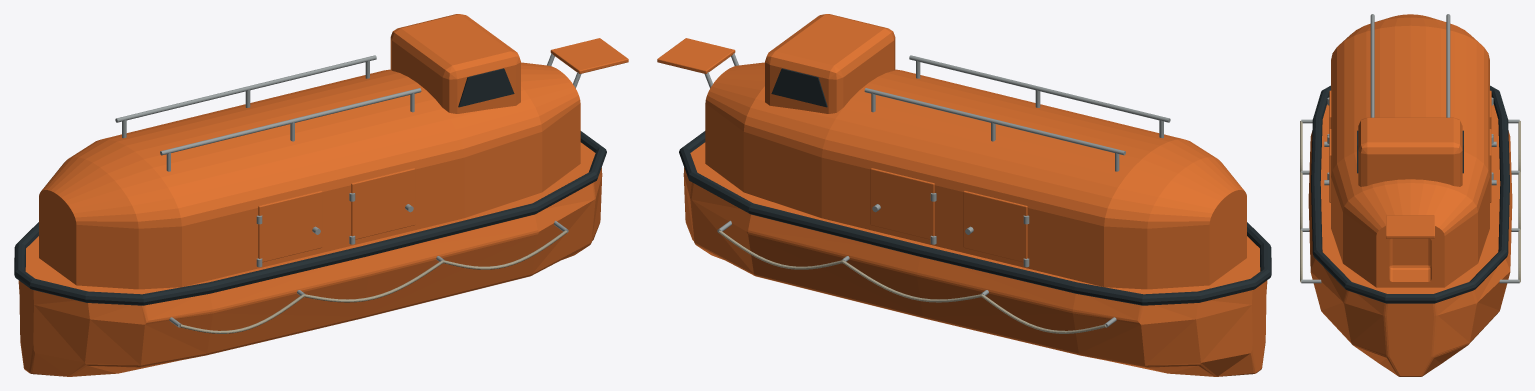
File: full.fbx
The picture shows the model from 3 angles, left to right: view 1: azimuth 30°, elevation 25°; view 2: azimuth 150°, elevation 25°; view 3: azimuth 270°, elevation 25°; orthographic projection. The views are drawn at different scales.
Parts seen in each view (by area): view 1: Long enclosed hard cabin, Generic closed rigid hull, Raised pilothouse, Continuous dark rubrail, Side door -1 -0.85, Side door -1 0.35, Open end hatch cover, Continuous side grab rope -1, Dark trapezoid window -1, Narrow upper rail 1, Narrow upper rail -1; view 2: Long enclosed hard cabin, Generic closed rigid hull, Raised pilothouse, Continuous dark rubrail, Side door 1 -0.85, Side door 1 0.35, Open end hatch cover, Continuous side grab rope 1, Dark trapezoid window 1, Narrow upper rail -1, Narrow upper rail 1; view 3: Long enclosed hard cabin, Generic closed rigid hull, Raised pilothouse, Continuous dark rubrail, Open end hatch cover, Narrow upper rail -1, Narrow upper rail 1, Continuous side grab rope -1, Continuous side grab rope 1.
Part boxes in pixels (left/top/right/bottom): Long enclosed hard cabin: left=39, top=62, right=580, bottom=289; Generic closed rigid hull: left=18, top=142, right=602, bottom=376; Raised pilothouse: left=390, top=14, right=520, bottom=113; Continuous dark rubrail: left=14, top=131, right=606, bottom=305; Side door -1 -0.85: left=258, top=191, right=322, bottom=262; Side door -1 0.35: left=351, top=168, right=415, bottom=239; Open end hatch cover: left=550, top=38, right=628, bottom=73; Continuous side grab rope -1: left=179, top=230, right=567, bottom=333; Dark trapezoid window -1: left=458, top=68, right=514, bottom=107; Narrow upper rail 1: left=115, top=55, right=376, bottom=122; Narrow upper rail -1: left=160, top=88, right=421, bottom=155; Long enclosed hard cabin: left=705, top=62, right=1246, bottom=289; Generic closed rigid hull: left=683, top=142, right=1267, bottom=376; Raised pilothouse: left=765, top=14, right=895, bottom=113; Continuous dark rubrail: left=679, top=131, right=1271, bottom=305; Side door 1 -0.85: left=963, top=191, right=1027, bottom=262; Side door 1 0.35: left=870, top=168, right=934, bottom=239; Open end hatch cover: left=657, top=38, right=735, bottom=73; Continuous side grab rope 1: left=718, top=230, right=1106, bottom=333; Dark trapezoid window 1: left=771, top=68, right=827, bottom=107; Narrow upper rail -1: left=909, top=55, right=1170, bottom=122; Narrow upper rail 1: left=864, top=88, right=1125, bottom=155; Long enclosed hard cabin: left=1331, top=14, right=1489, bottom=287; Generic closed rigid hull: left=1308, top=104, right=1512, bottom=376; Raised pilothouse: left=1358, top=117, right=1462, bottom=186; Continuous dark rubrail: left=1311, top=85, right=1509, bottom=303; Open end hatch cover: left=1386, top=215, right=1434, bottom=238; Narrow upper rail -1: left=1370, top=14, right=1374, bottom=117; Narrow upper rail 1: left=1446, top=14, right=1450, bottom=117; Continuous side grab rope -1: left=1300, top=121, right=1302, bottom=282; Continuous side grab rope 1: left=1518, top=121, right=1520, bottom=282.
Bounding box in the file's own units: 766 × 282 × 291.
